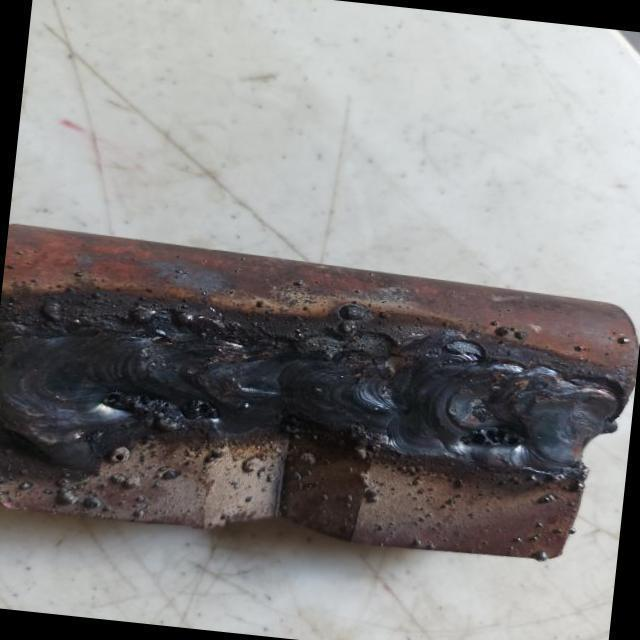defect: (100, 391, 179, 422), (454, 427, 530, 449), (181, 397, 221, 421)
